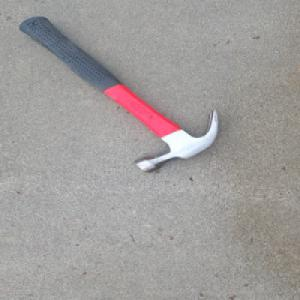Hammer: (30, 17, 223, 173)
